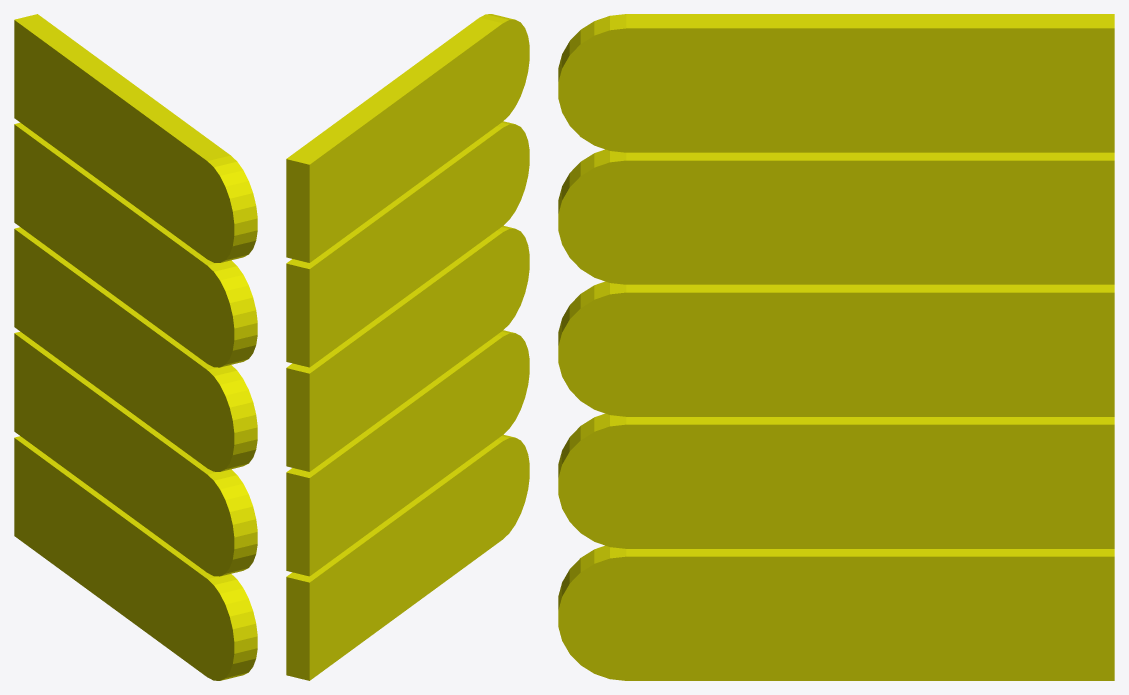
The model's file is fence.dae.
The picture shows the model from 3 angles, left to right: view 1: azimuth 30°, elevation 25°; view 2: azimuth 150°, elevation 25°; view 3: azimuth 270°, elevation 25°; orthographic projection. The views are drawn at different scales.
Parts seen in each view (by area): view 1: eus_glvertices; view 2: eus_glvertices; view 3: eus_glvertices.
Part boxes in pixels (<box>): eus_glvertices: <box>14,14,257,680</box>; eus_glvertices: <box>286,14,529,680</box>; eus_glvertices: <box>558,14,1114,680</box>.
Size of the model in its own units: 0.04 by 0.84 by 0.6494.
